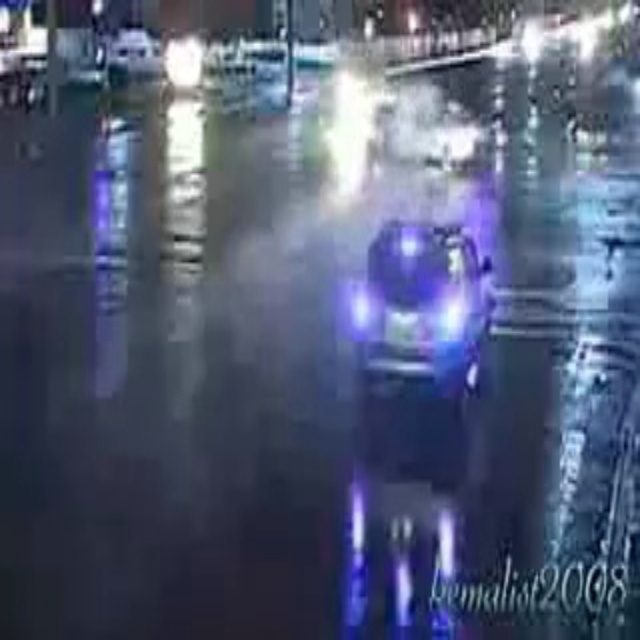acc: (318, 68, 483, 167)
